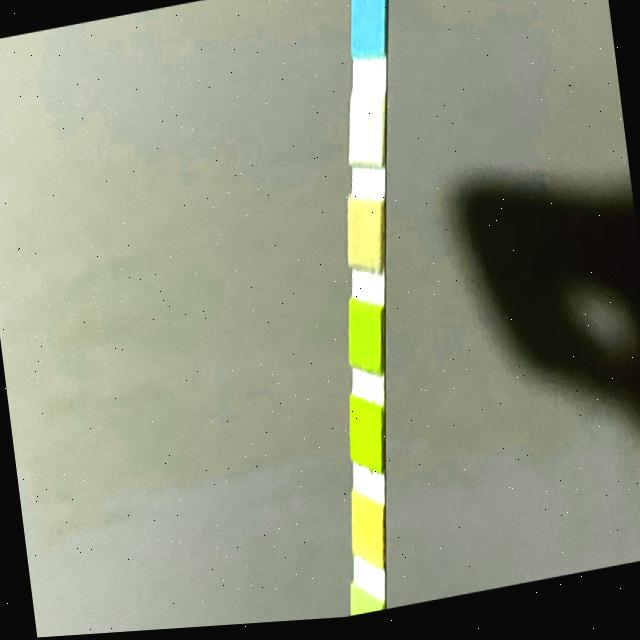Bilirubin: (349, 101, 383, 164)
Blood: (349, 408, 379, 467)
Glucose: (352, 0, 384, 59)
Ketone: (348, 204, 382, 267)
Protein: (350, 607, 377, 620)
SpGravity: (348, 310, 380, 368)
pH: (352, 510, 382, 559)
